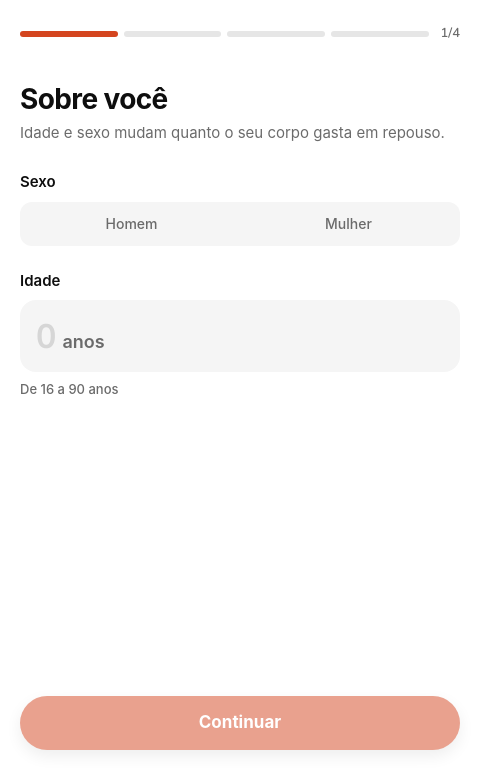
Test: Onboarding › Voltar no passo 2 retorna ao passo 1 mantendo a idade digitada
Click the radio button labelled "Homem" at (132, 224), box [23,205,240,243]
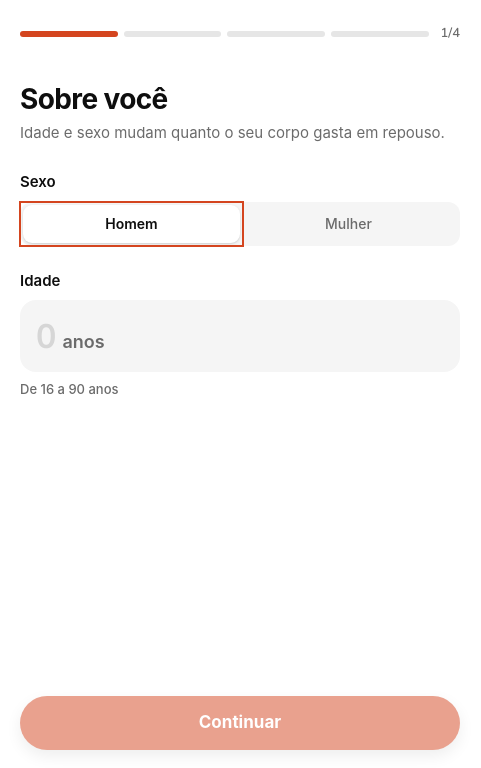
Type "34" into the field labelled "Idade" at (46, 337), box [36,314,56,360]
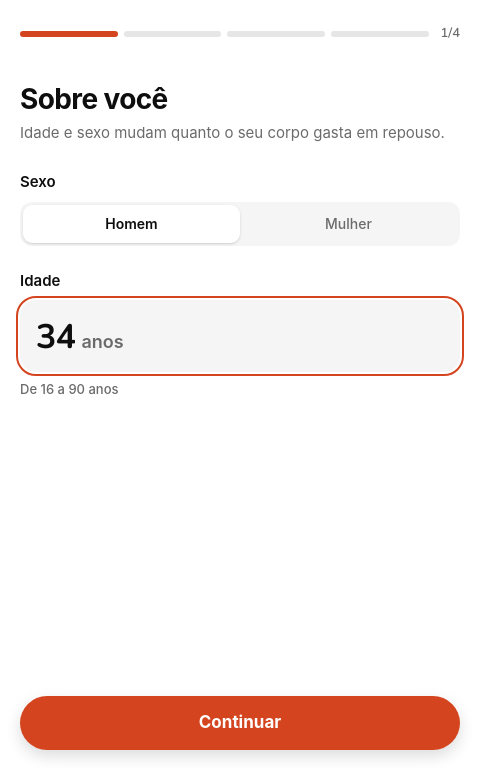
Click the button "Continuar" at (240, 723), box [20,696,460,750]
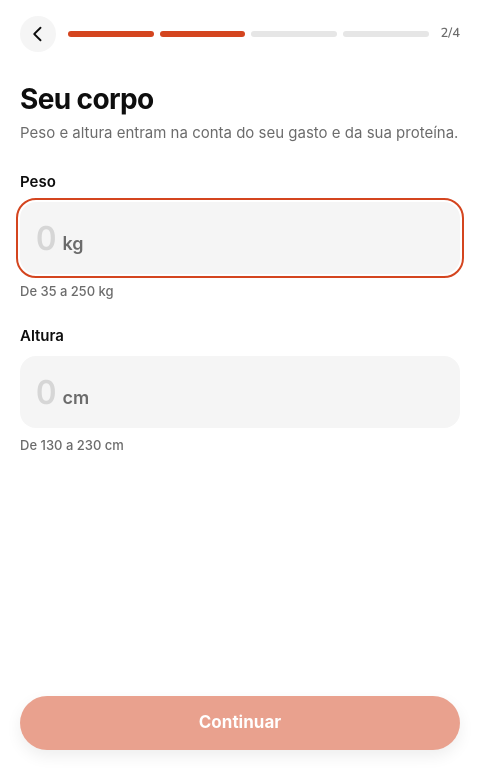
Click the button named "Voltar" at (38, 34), box [20,16,56,52]
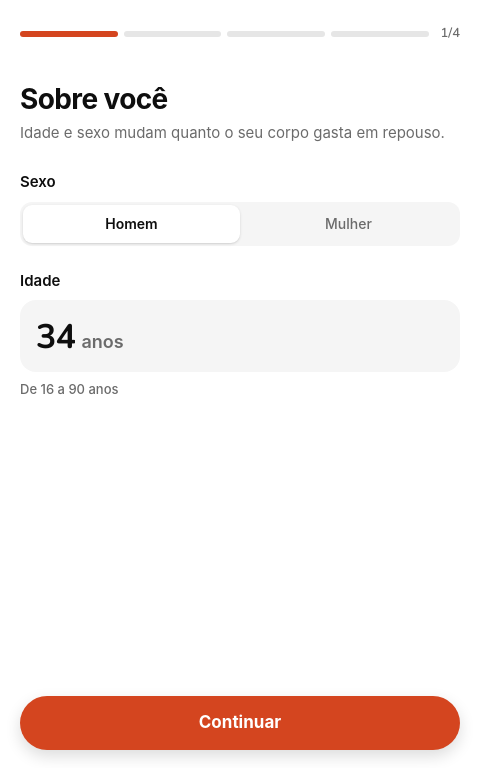
Check: the field labelled "Idade" holds "34", box [36,314,76,360]
